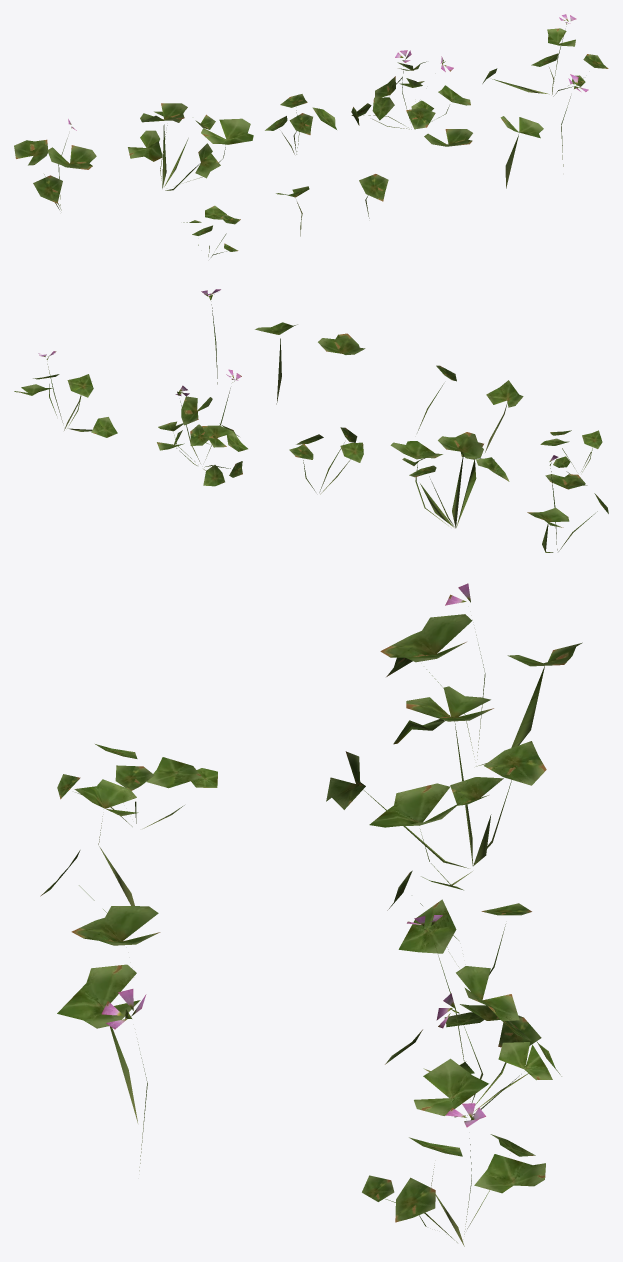
File: shrub_sorrel_01.glb
3 views of the same model, one above another, from view 1: azimuth 30°, elevation 25°; view 2: azimuth 150°, elevation 25°; view 3: azimuth 270°, elevation 25° (orthographic). The views are drawn at different scales.
Visible parts, largest first — view 1: shrub_sorrel_01_k; view 2: shrub_sorrel_01_k; view 3: shrub_sorrel_01_k.
Part boxes in pixels (left/top/right/bottom): shrub_sorrel_01_k: left=14, top=14, right=608, bottom=257; shrub_sorrel_01_k: left=14, top=289, right=608, bottom=552; shrub_sorrel_01_k: left=40, top=583, right=582, bottom=1246.
Size of the model in its own units: 0.35 by 0.058 by 0.1455.
1 material, 1 textured.
